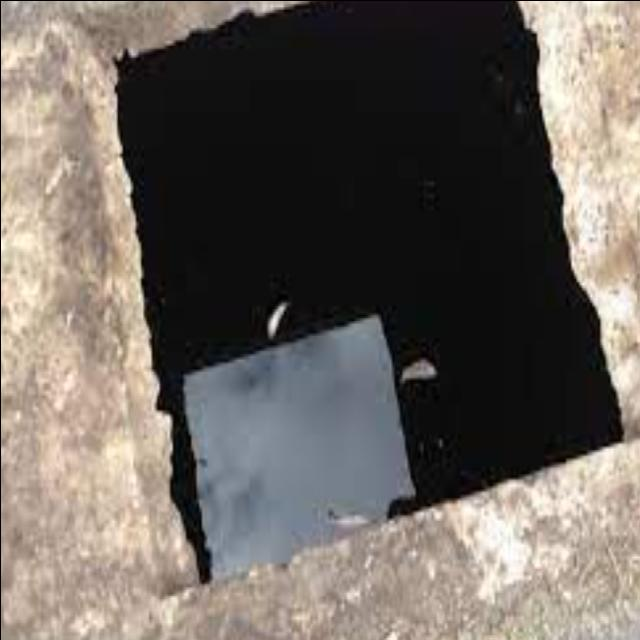Breeding Place: (110, 0, 627, 579)
